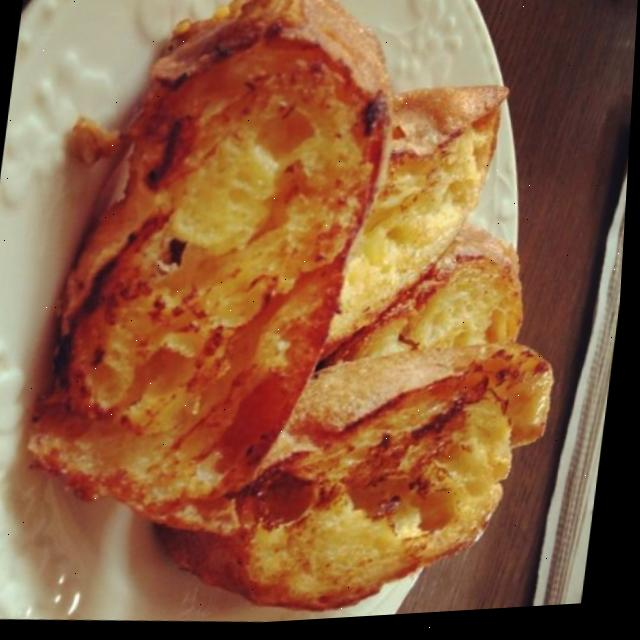面包点心: (0, 0, 627, 640)
